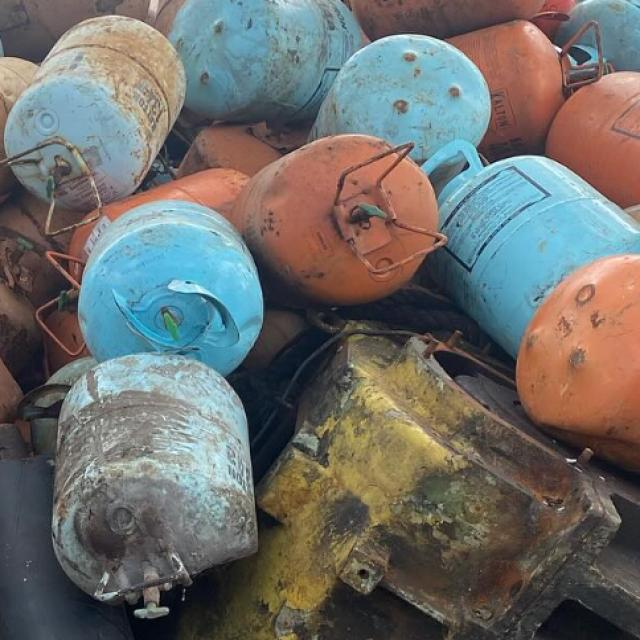cylinder: (51, 351, 258, 618), (420, 139, 639, 361), (4, 15, 187, 239), (227, 135, 451, 304), (77, 200, 264, 375)
